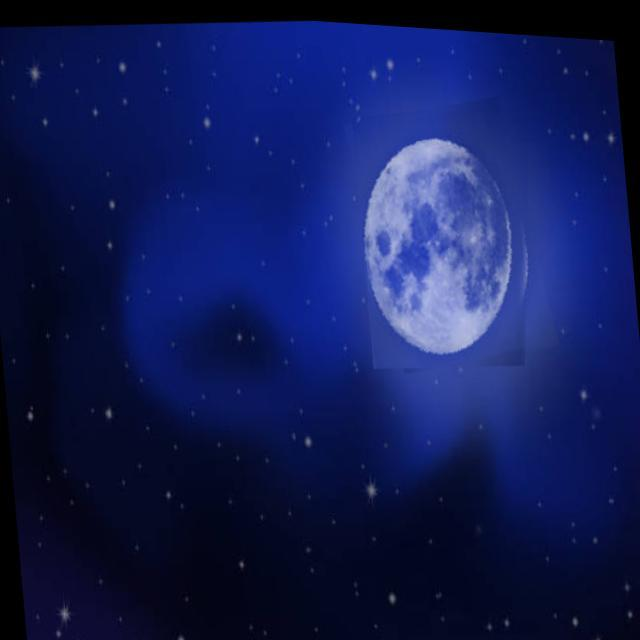moon: (350, 84, 552, 372)
